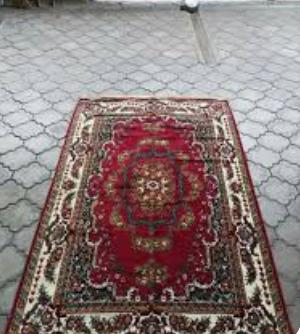carpet: (5, 97, 293, 334)
